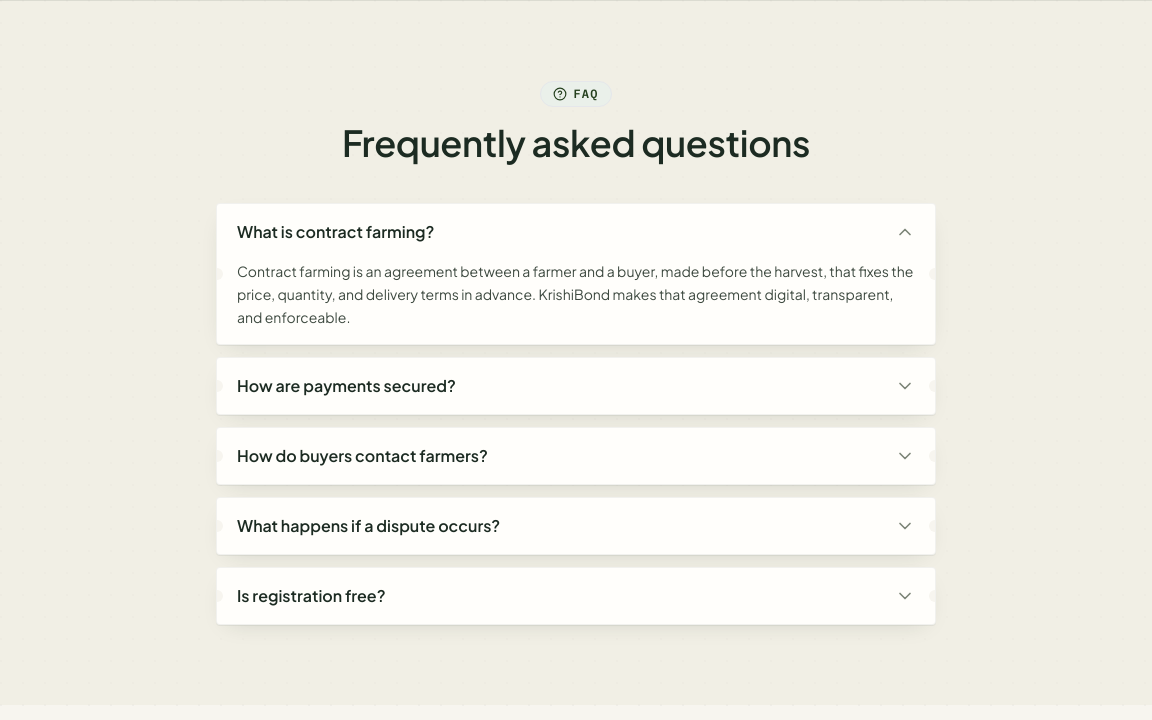
Test: FAQAccordion › closes the previously open question when a new one is opened
Click the button "How are payments secured?": (346,386) left=217, top=358, right=935, bottom=414
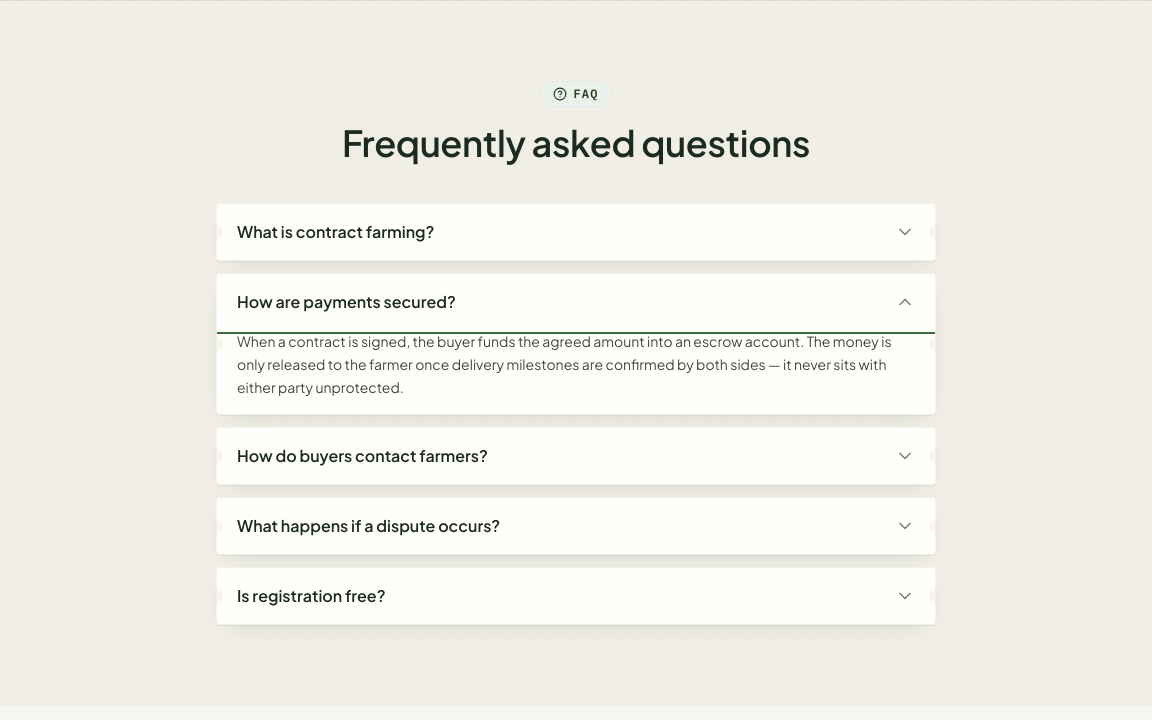
Expected: the button "What is contract farming?" is collapsed, left=217, top=204, right=935, bottom=260
Expected: the button "How are payments secured?" is expanded, left=217, top=274, right=935, bottom=330
